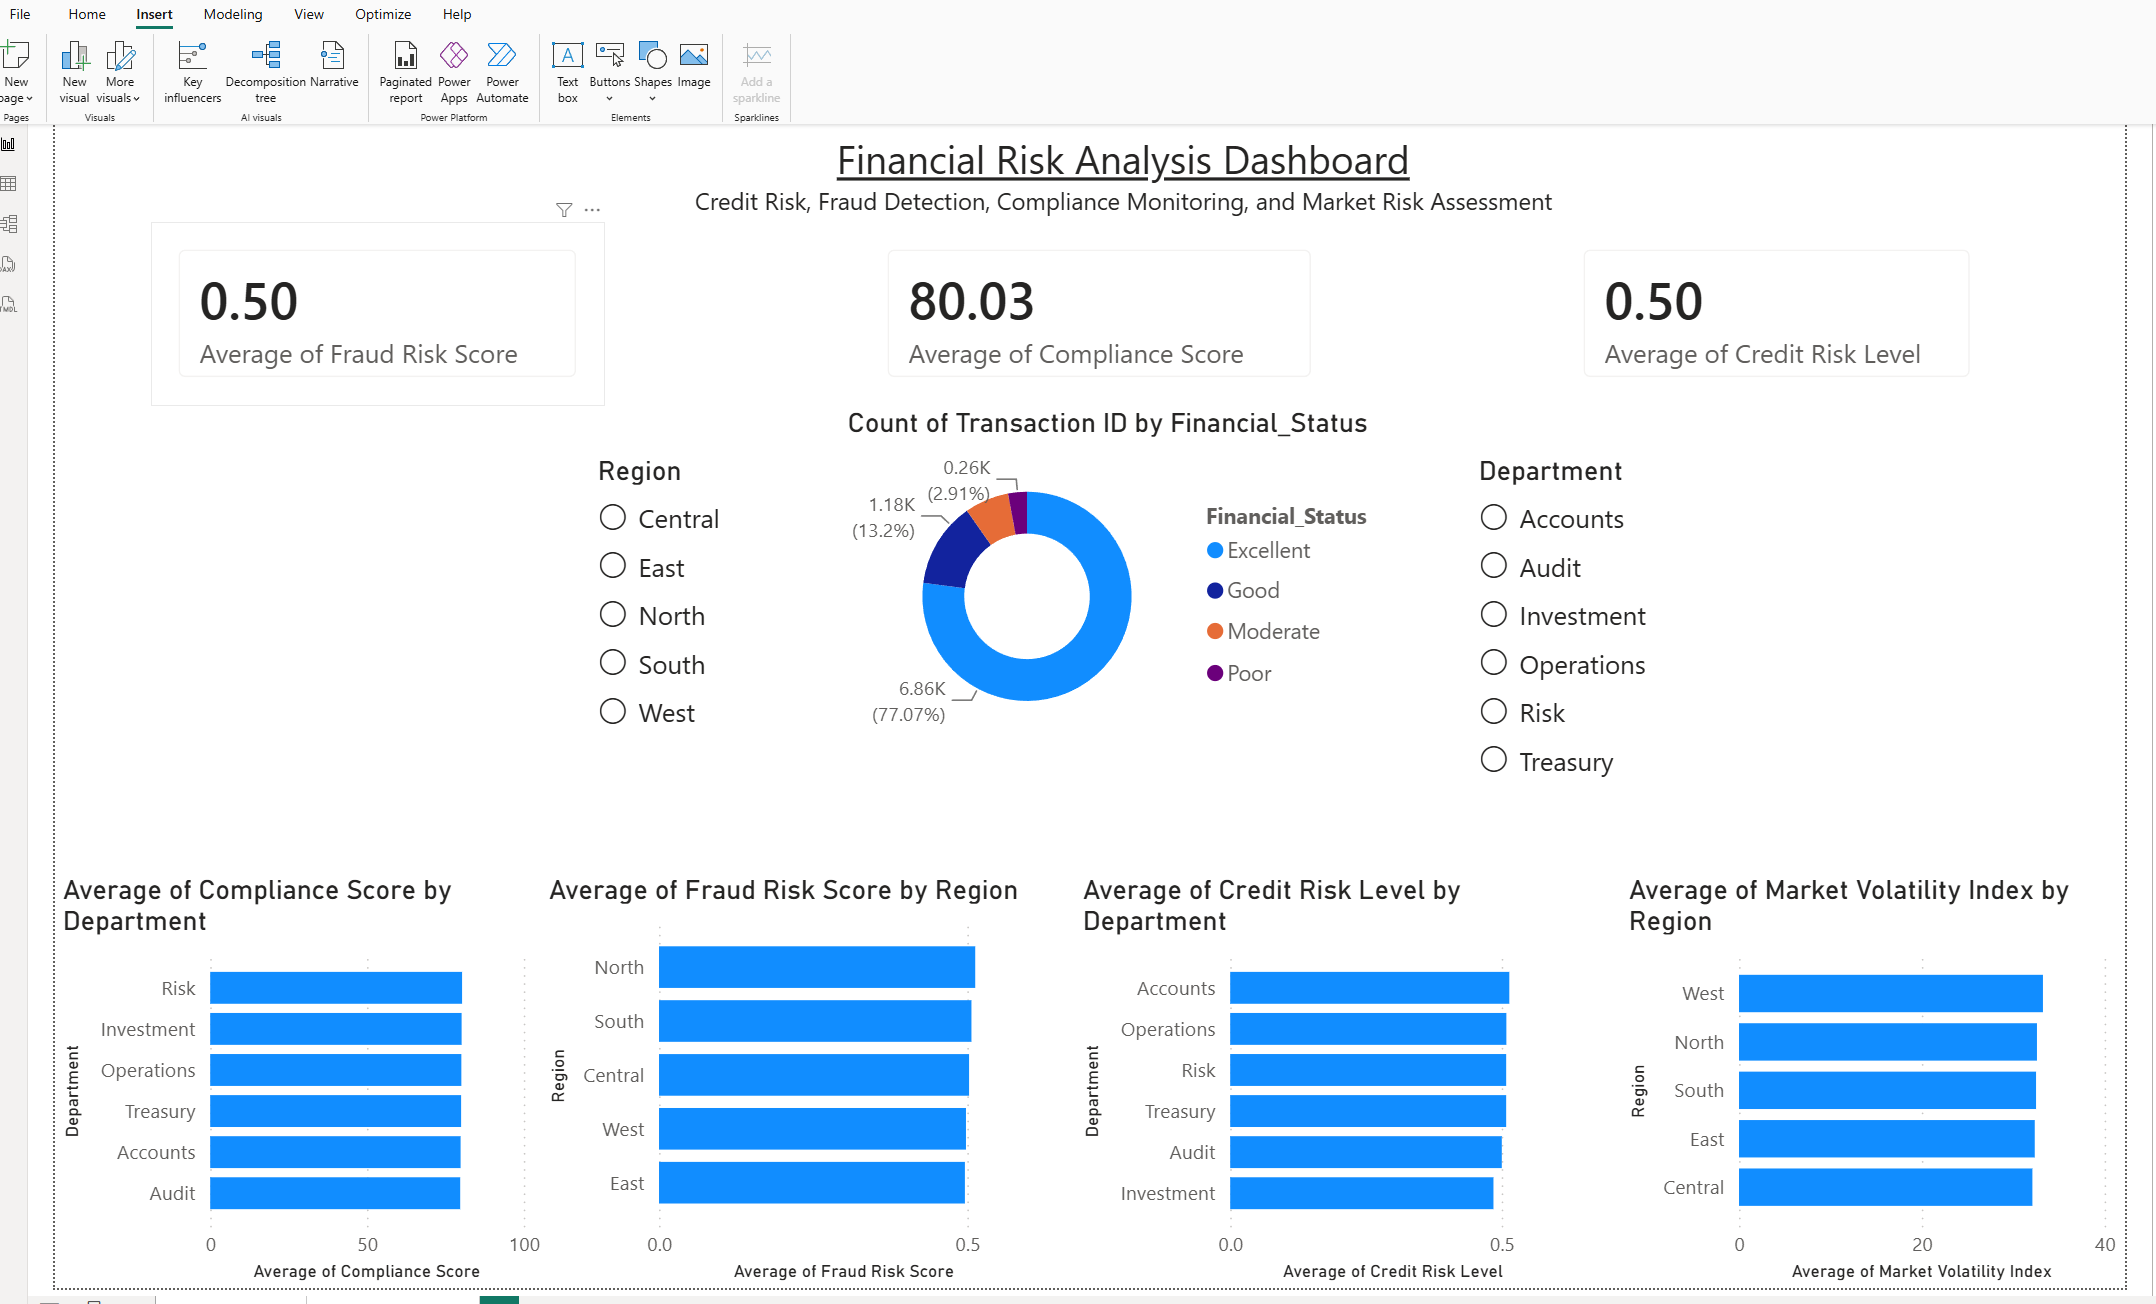

This screenshot's page, from the dashboard's own definition file:
{"tool":"powerbi","page":{"name":"Risk Analysis DashBoard","canvas":[1280,720],"ordinal":1},"visuals":[{"type":"clusteredBarChart","fields":{"Category":["IoT_Financial_Management_Dataset.Department"],"Y":["Avg(IoT_Financial_Management_Dataset.Credit_Risk_Level)"]},"box":[630.9,463.3,310.5,256.7],"z":0},{"type":"clusteredBarChart","fields":{"Category":["IoT_Financial_Management_Dataset.Region"],"Y":["Avg(IoT_Financial_Management_Dataset.Fraud_Risk_Score)"]},"box":[300.6,463.3,314.8,256.7],"z":1000},{"type":"clusteredBarChart","fields":{"Category":["IoT_Financial_Management_Dataset.Department"],"Y":["Avg(IoT_Financial_Management_Dataset.Compliance_Score)"]},"box":[0,463.3,304.9,256.7],"z":2000},{"type":"donutChart","fields":{"Category":["IoT_Financial_Management_Dataset.Financial_Status"],"Y":["CountNonNull(IoT_Financial_Management_Dataset.Transaction_ID)"]},"box":[485.6,174.4,338.4,216.5],"z":3000},{"type":"clusteredBarChart","fields":{"Category":["IoT_Financial_Management_Dataset.Region"],"Y":["Avg(IoT_Financial_Management_Dataset.Market_Volatility_Index)"]},"box":[968.7,463.3,311.1,256.7],"z":4000},{"type":"textbox","box":[391,0,577.6,65.4],"z":5000},{"type":"listSlicer","fields":{"Values":["IoT_Financial_Management_Dataset.Department"]},"box":[875.9,204.1,130.5,209.7],"z":5001},{"type":"listSlicer","fields":{"Values":["IoT_Financial_Management_Dataset.Region"]},"box":[330.9,204.1,110.7,186.8],"z":5002},{"type":"cardVisual","fields":{"Data":["Avg(IoT_Financial_Management_Dataset.Fraud_Risk_Score)"]},"box":[59.4,60.6,280.8,113.8],"z":5003},{"type":"cardVisual","fields":{"Data":["Avg(IoT_Financial_Management_Dataset.Credit_Risk_Level)"]},"box":[928.5,60.6,273.4,113.8],"z":5004},{"type":"cardVisual","fields":{"Data":["Avg(IoT_Financial_Management_Dataset.Compliance_Score)"]},"box":[497.9,60.6,296.9,113.8],"z":5005}]}

Visuals, with their boxes on the page's 1280x720 design canvas (x1, y1, x2, y2). These are canvas units, not pixel positions in the 2156x1304 screenshot, which may show the page scaled, cropped or inside an application window:
clusteredBarChart - IoT_Financial_Management_Dataset.Department x Avg(IoT_Financial_Management_Dataset.Credit_Risk_Level): <bbox>631, 463, 941, 720</bbox>
clusteredBarChart - IoT_Financial_Management_Dataset.Region x Avg(IoT_Financial_Management_Dataset.Fraud_Risk_Score): <bbox>301, 463, 615, 720</bbox>
clusteredBarChart - IoT_Financial_Management_Dataset.Department x Avg(IoT_Financial_Management_Dataset.Compliance_Score): <bbox>0, 463, 305, 720</bbox>
donutChart - IoT_Financial_Management_Dataset.Financial_Status x CountNonNull(IoT_Financial_Management_Dataset.Transaction_ID): <bbox>486, 174, 824, 391</bbox>
clusteredBarChart - IoT_Financial_Management_Dataset.Region x Avg(IoT_Financial_Management_Dataset.Market_Volatility_Index): <bbox>969, 463, 1280, 720</bbox>
textbox: <bbox>391, 0, 969, 65</bbox>
listSlicer - IoT_Financial_Management_Dataset.Department: <bbox>876, 204, 1006, 414</bbox>
listSlicer - IoT_Financial_Management_Dataset.Region: <bbox>331, 204, 442, 391</bbox>
cardVisual - Avg(IoT_Financial_Management_Dataset.Fraud_Risk_Score): <bbox>59, 61, 340, 174</bbox>
cardVisual - Avg(IoT_Financial_Management_Dataset.Credit_Risk_Level): <bbox>928, 61, 1202, 174</bbox>
cardVisual - Avg(IoT_Financial_Management_Dataset.Compliance_Score): <bbox>498, 61, 795, 174</bbox>
